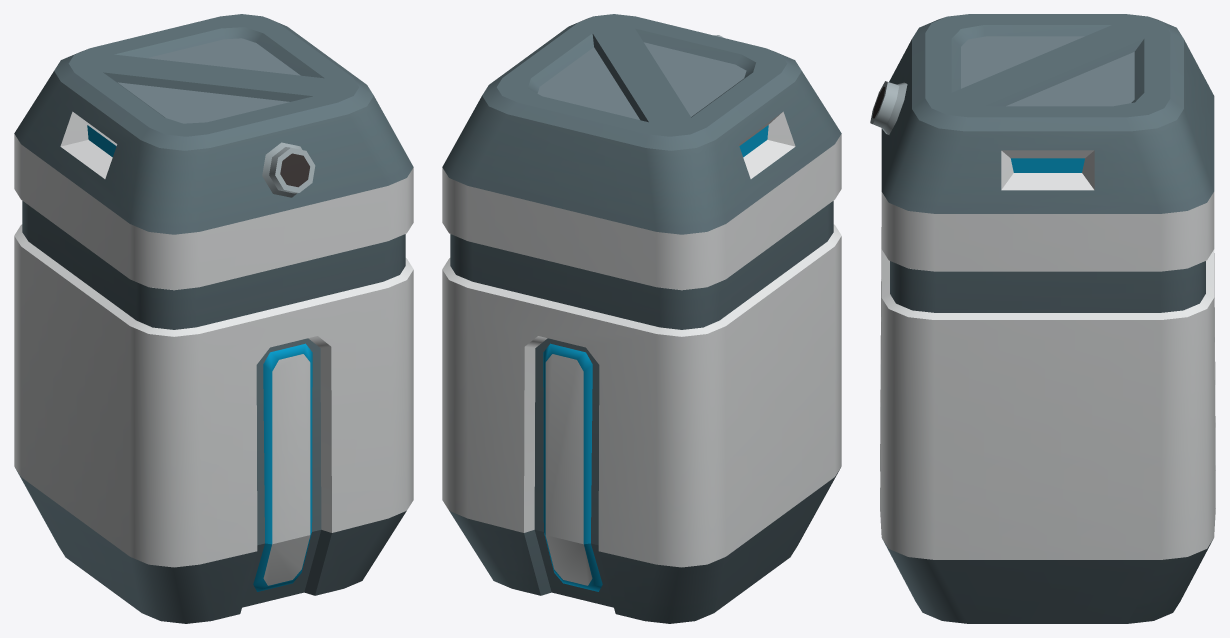
File: Barrel_009.fbx
3 renders of one model, left to right at view 1: azimuth 30°, elevation 25°; view 2: azimuth 150°, elevation 25°; view 3: azimuth 270°, elevation 25°, orthographic. The views are drawn at different scales.
Visible parts, largest first — view 1: Barrel_009; view 2: Barrel_009; view 3: Barrel_009.
Boxes of the visible parts, x1,y1,x2,y2 form: Barrel_009: (14,14,413,623); Barrel_009: (442,14,841,623); Barrel_009: (870,14,1215,623).
Size of the model in its own units: 60 by 62.37 by 100.
